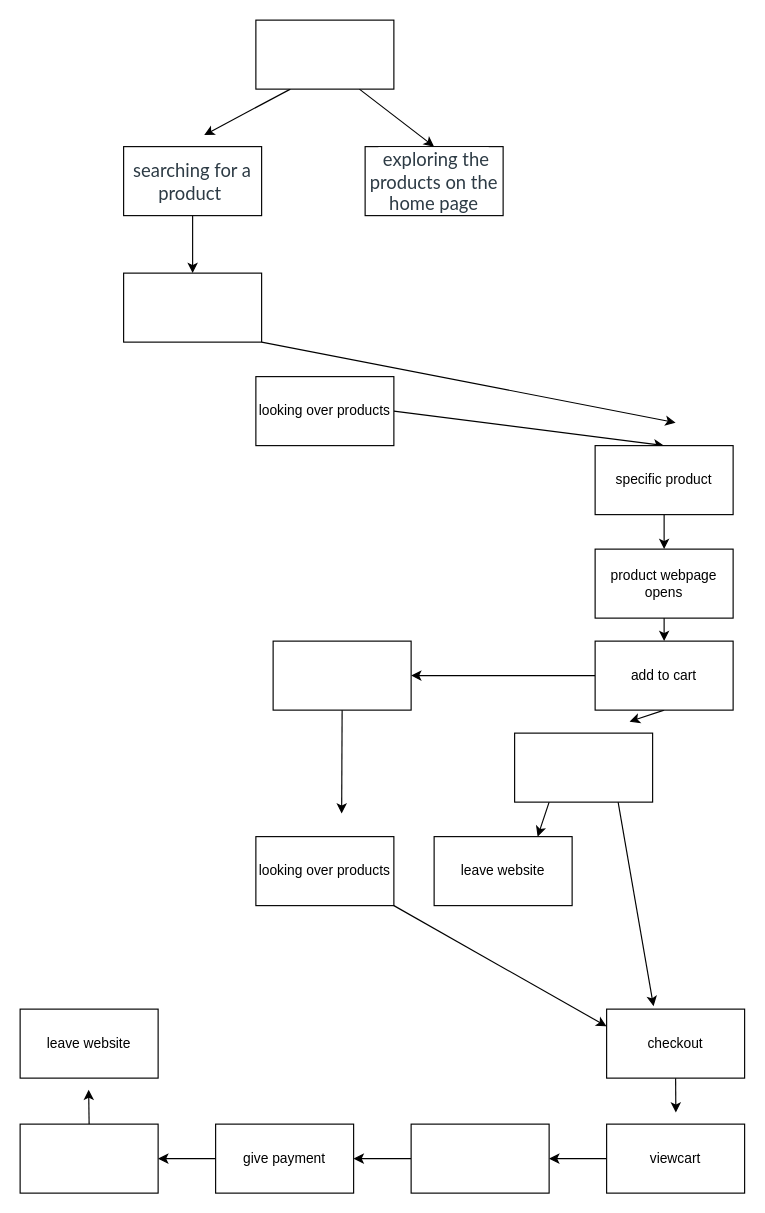
This 765x1213 diagram has some shape labels left out. Each missing label, with the centre of its shape:
confirmation: (583,767)
continue shopping: (341,675)
order confirmation: (88,1158)
provide input to website: (192,307)
user enters website: (324,54)
view payment: (479,1158)
